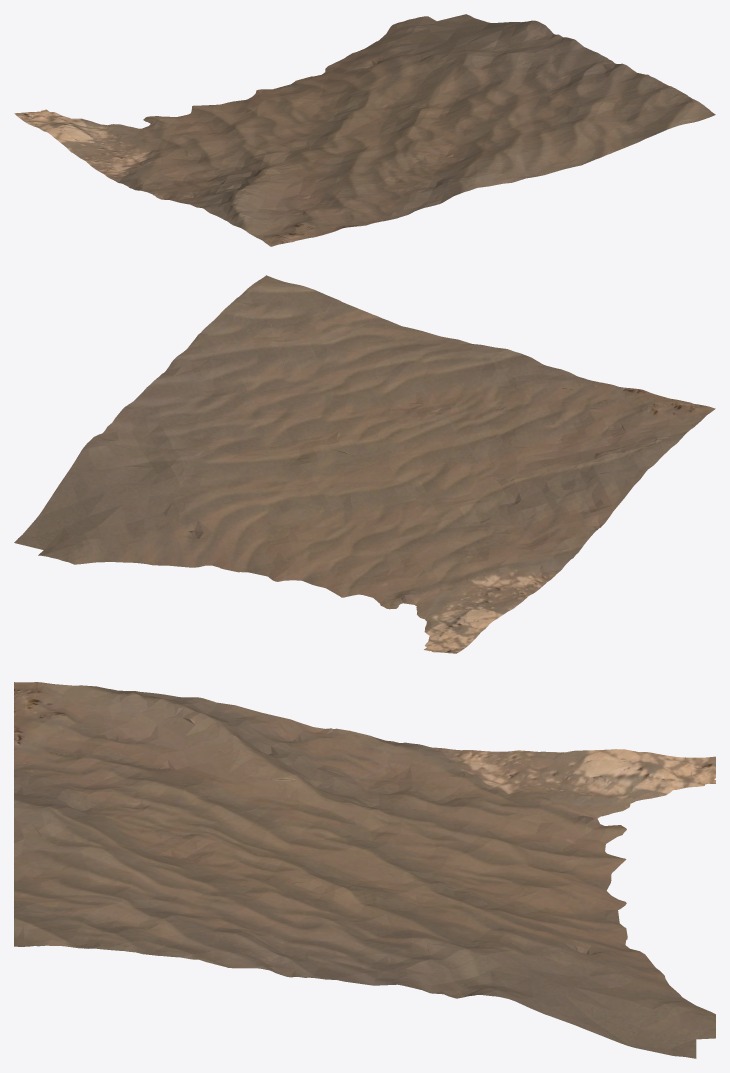
The picture shows the model from 3 angles, top to bottom: view 1: azimuth 30°, elevation 25°; view 2: azimuth 150°, elevation 25°; view 3: azimuth 270°, elevation 25°; orthographic projection. The views are drawn at different scales.
Size of the model in its own units: 1.04 by 0.187 by 1.04.
2 materials, 2 textured.
